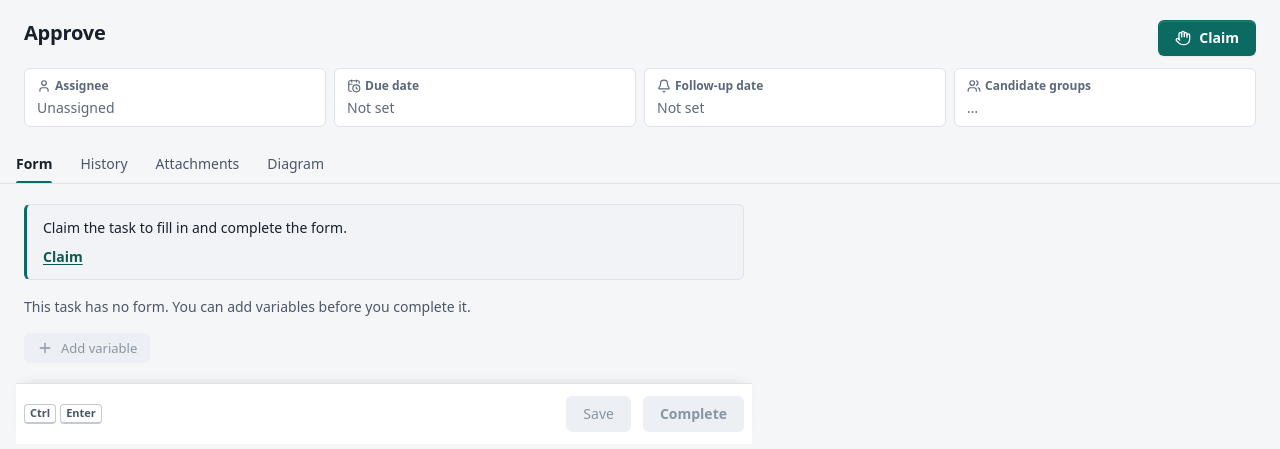
Scenario: completing a task whose claim is under way › does not send the form before the claim is made, and sends it after
Later steps or results of the test are not shown.
Expected: the button "Complete" is disabled, [643, 396, 744, 432]
Click the button "Claim" in the row of "Approve" at (1207, 38), box [1158, 20, 1256, 56]
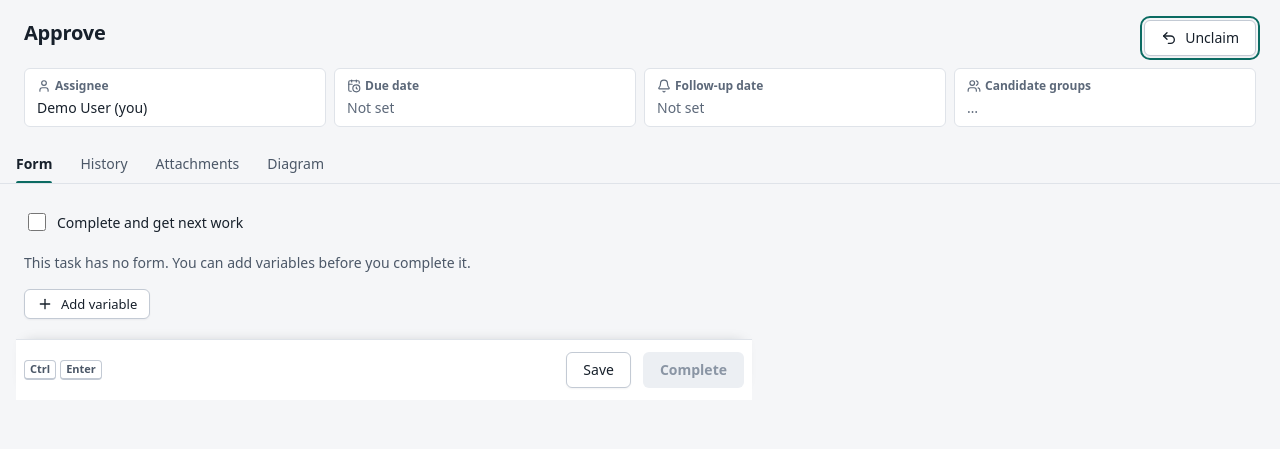
Expected: the button "Add variable" is enabled, [24, 289, 150, 319]
Result: the button "Unclaim" is shown at [1144, 20, 1256, 56]
